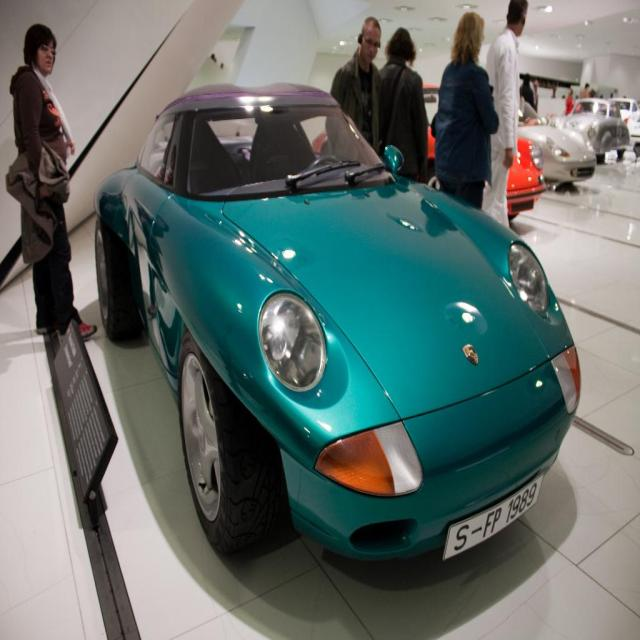car: (94, 81, 580, 561)
